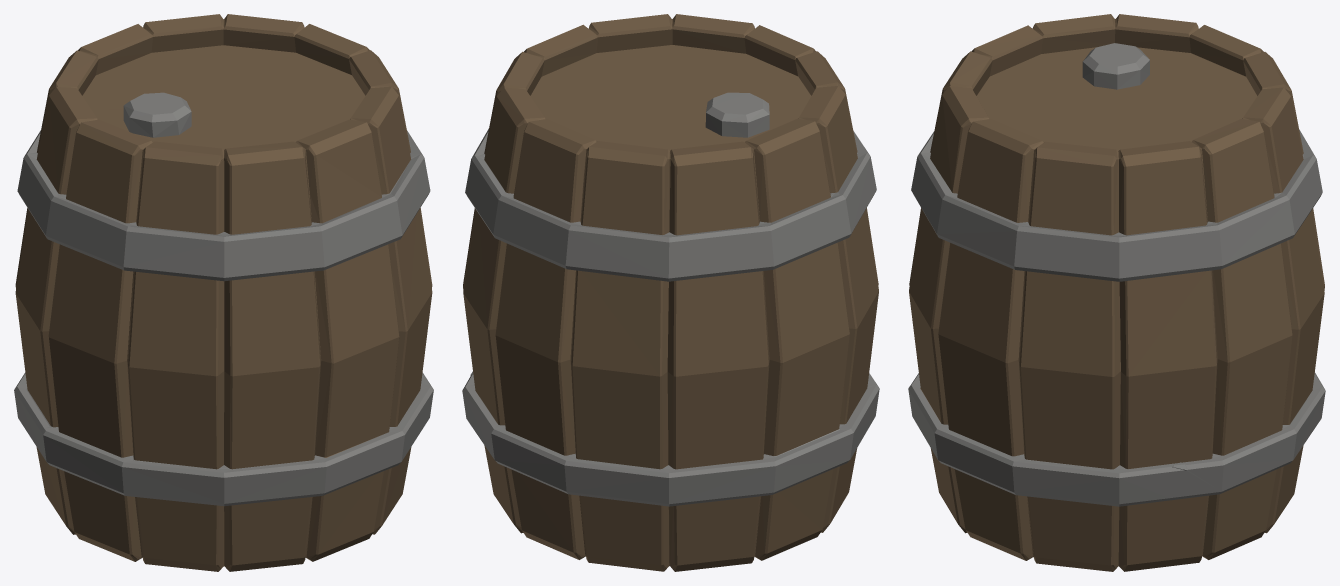
File: WoodenBarrel.fbx
3 renders of one model, left to right at view 1: azimuth 30°, elevation 25°; view 2: azimuth 150°, elevation 25°; view 3: azimuth 270°, elevation 25°, orthographic.
Parts seen in each view (by area): view 1: WoodenBarrel; view 2: WoodenBarrel; view 3: WoodenBarrel.
Boxes of the visible parts, x1,y1,x2,y2 form: WoodenBarrel: (14,14,433,571); WoodenBarrel: (462,14,879,571); WoodenBarrel: (908,14,1325,571).
Bounding box in the file's own units: 0.8251 × 0.8213 × 0.8999.
